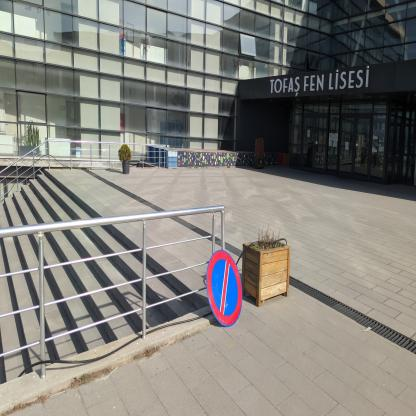No Waiting: (208, 251, 244, 328)
